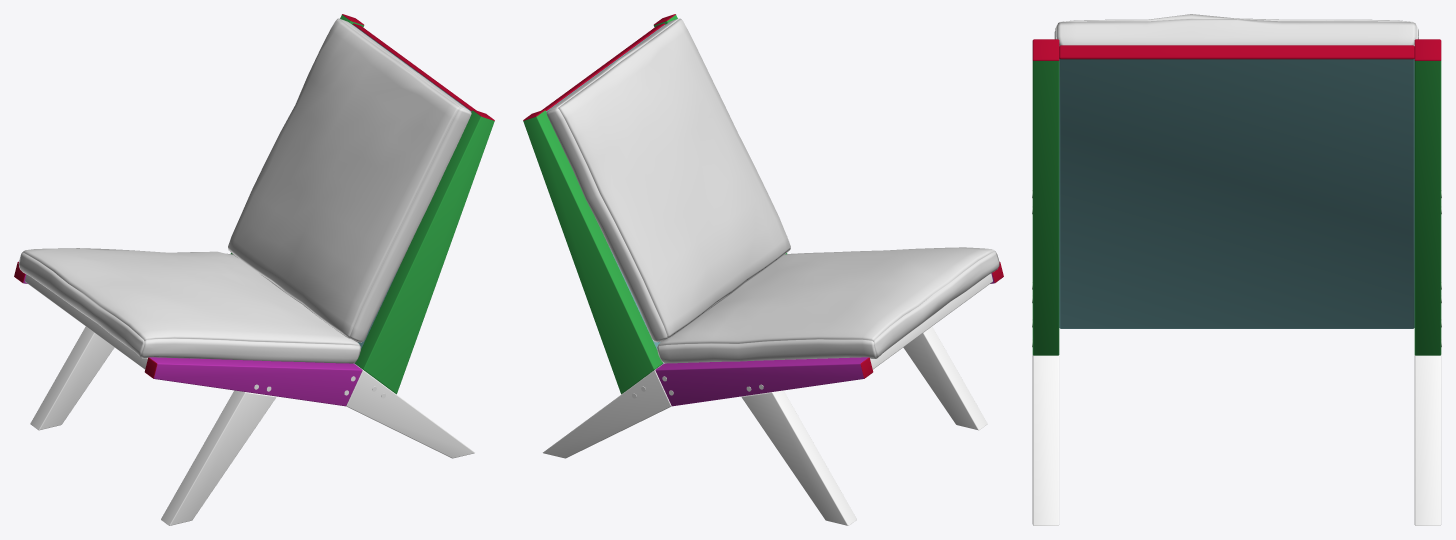
Rendered from uploads_files_3312787_KEPNER+LOUNGE+CHAIR.fbx.
3 renders of one model, left to right at view 1: azimuth 30°, elevation 25°; view 2: azimuth 150°, elevation 25°; view 3: azimuth 270°, elevation 25°, orthographic. The views are drawn at different scales.
Visible parts, largest first — view 1: kepner lounge chair, Cube.002, Plane.005, Plane.006, Plane.003, Plane.007, Plane.009, Plane.008; view 2: kepner lounge chair, Cube.002, Plane.005, Plane.006, Plane.003, Plane.007, Plane.009, Plane.008; view 3: Plane.008, Plane.005, kepner lounge chair, Plane.007.
Part boxes in pixels (bbox=[...]): kepner lounge chair: bbox=[228, 18, 471, 342]; Cube.002: bbox=[18, 248, 360, 363]; Plane.005: bbox=[230, 14, 494, 394]; Plane.006: bbox=[30, 326, 276, 525]; Plane.003: bbox=[14, 261, 362, 406]; Plane.007: bbox=[346, 364, 474, 458]; Plane.009: bbox=[25, 274, 147, 369]; Plane.008: bbox=[352, 23, 476, 363]; kepner lounge chair: bbox=[546, 18, 790, 342]; Cube.002: bbox=[657, 247, 999, 363]; Plane.005: bbox=[523, 14, 787, 394]; Plane.006: bbox=[741, 326, 987, 525]; Plane.003: bbox=[655, 262, 1003, 406]; Plane.007: bbox=[543, 364, 671, 458]; Plane.009: bbox=[870, 273, 992, 369]; Plane.008: bbox=[541, 23, 665, 363]; Plane.008: bbox=[1059, 45, 1414, 328]; Plane.005: bbox=[1032, 39, 1441, 355]; kepner lounge chair: bbox=[1055, 14, 1418, 45]; Plane.007: bbox=[1032, 355, 1441, 525].
Bounding box in the file's own units: 34.06 × 32.25 × 23.84.
